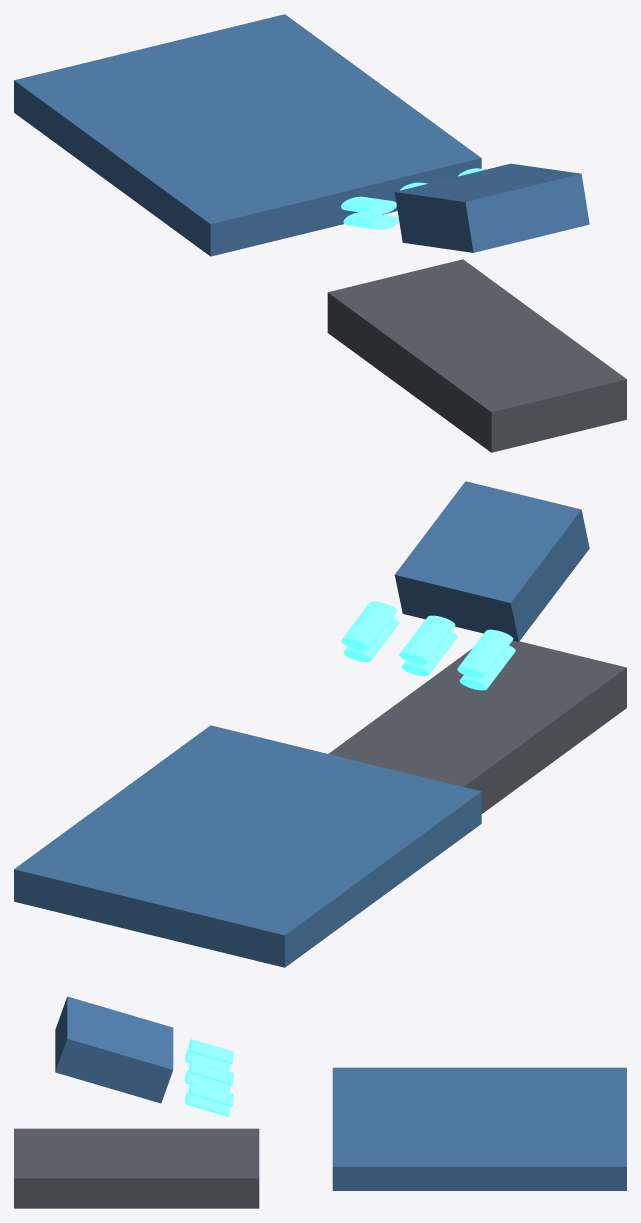
File: AL_OracleArtillery_LOD1.glb
3 views of the same model, one above another, from view 1: azimuth 30°, elevation 25°; view 2: azimuth 150°, elevation 25°; view 3: azimuth 270°, elevation 25° (orthographic). The views are drawn at different scales.
Parts seen in each view (by area): view 1: Cube.001, Cube, Cube.002, Cylinder, Cylinder.001; view 2: Cube.001, Cube, Cube.002, Cylinder, Cylinder.004, Cylinder.002, Cylinder.003, Cylinder.001, Cylinder.005; view 3: Cube.001, Cube, Cube.002, Cylinder, Cylinder.002, Cylinder.004, Cylinder.005, Cylinder.001, Cylinder.003.
Part boxes in pixels (box(x1,y1,x2,y2)): Cube.001: box(14, 14, 481, 256); Cube: box(327, 259, 626, 452); Cube.002: box(394, 163, 589, 252); Cylinder: box(341, 196, 396, 214); Cylinder.001: box(343, 212, 399, 229); Cube.001: box(14, 725, 481, 967); Cube: box(328, 641, 626, 813); Cube.002: box(394, 481, 589, 641); Cylinder: box(457, 629, 513, 678); Cylinder.004: box(341, 601, 397, 650); Cylinder.002: box(399, 615, 455, 664); Cylinder.003: box(401, 631, 457, 676); Cylinder.001: box(459, 645, 515, 690); Cylinder.005: box(343, 617, 399, 661); Cube.001: box(332, 1067, 626, 1190); Cube: box(14, 1128, 259, 1208); Cube.002: box(55, 996, 173, 1103); Cylinder: box(189, 1039, 233, 1064); Cylinder.002: box(189, 1060, 233, 1085); Cylinder.004: box(189, 1081, 233, 1106); Cylinder.005: box(185, 1091, 230, 1116); Cylinder.001: box(185, 1049, 230, 1071); Cylinder.003: box(185, 1070, 230, 1092).
Size of what is drawn, in the model's own units: 4.2 by 3.29 by 11.
